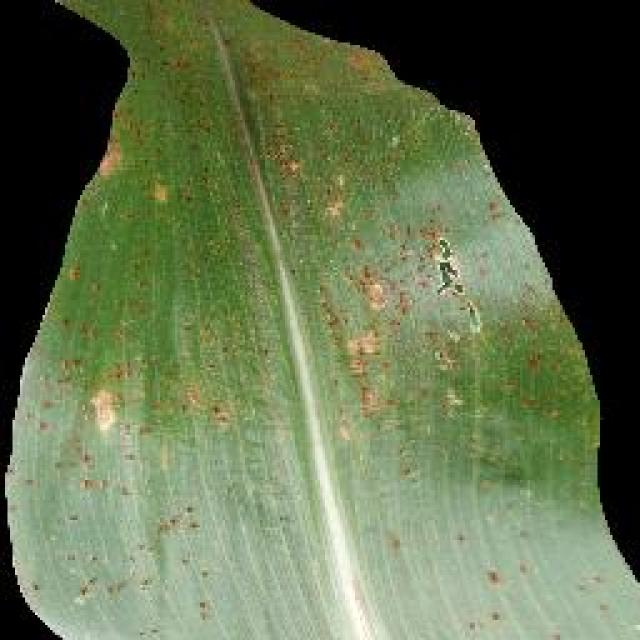Corn Common Rust: (81, 85, 546, 627)
